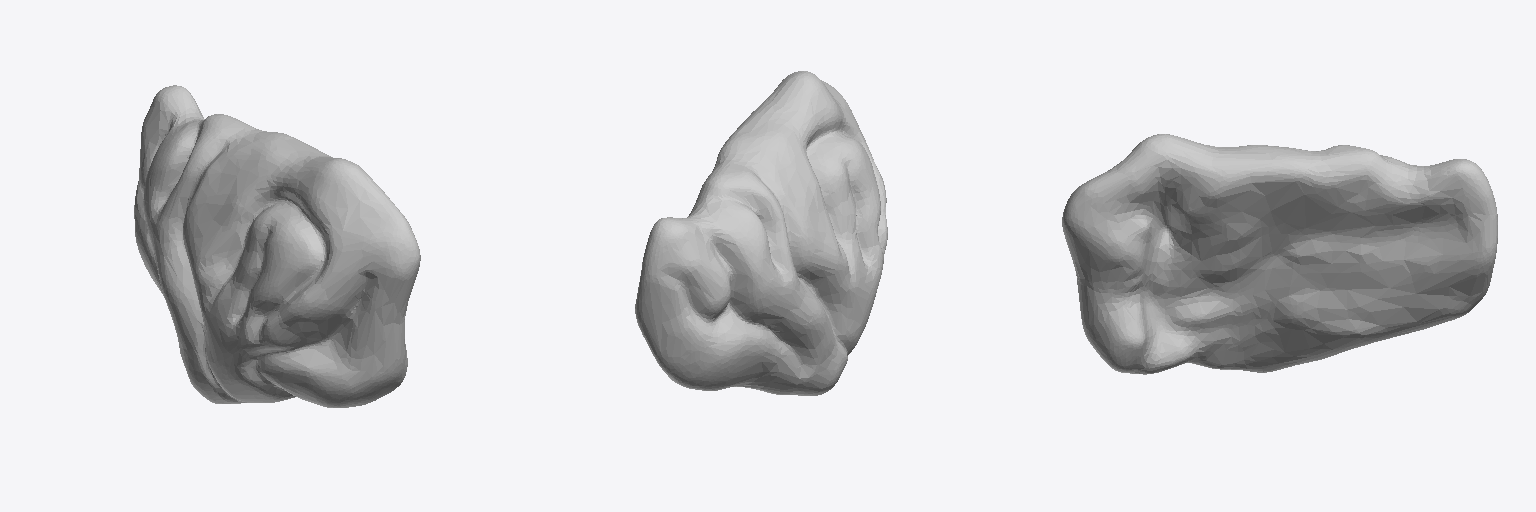
Rendered from Left_insula.obj.
3 views of the same model, side by side, from view 1: azimuth 30°, elevation 25°; view 2: azimuth 150°, elevation 25°; view 3: azimuth 270°, elevation 25° (orthographic).
Parts seen in each view (by area): view 1: obj0; view 2: obj0; view 3: obj0.
Boxes of the visible parts, <box> form: obj0: <box>134,85,420,407</box>; obj0: <box>635,71,887,395</box>; obj0: <box>1062,134,1497,374</box>.
Bounding box in the file's own units: 9.25 × 16.54 × 24.73.